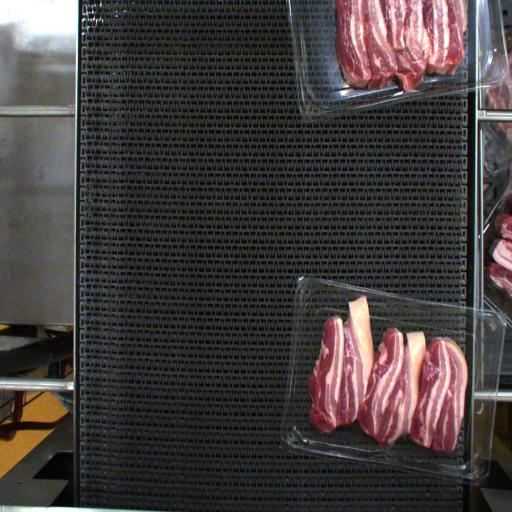twisted-meat: (338, 289, 374, 426), (399, 328, 426, 416)
